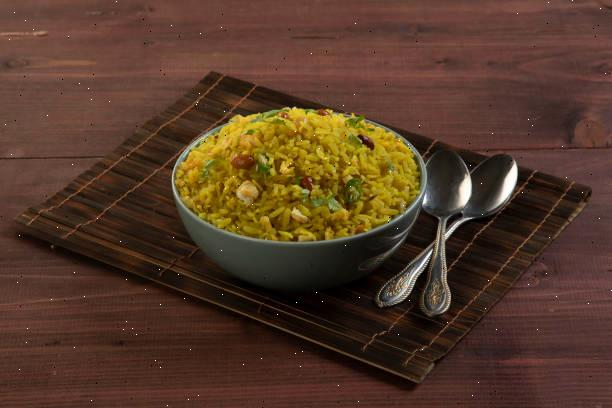poha: (184, 112, 402, 234)
